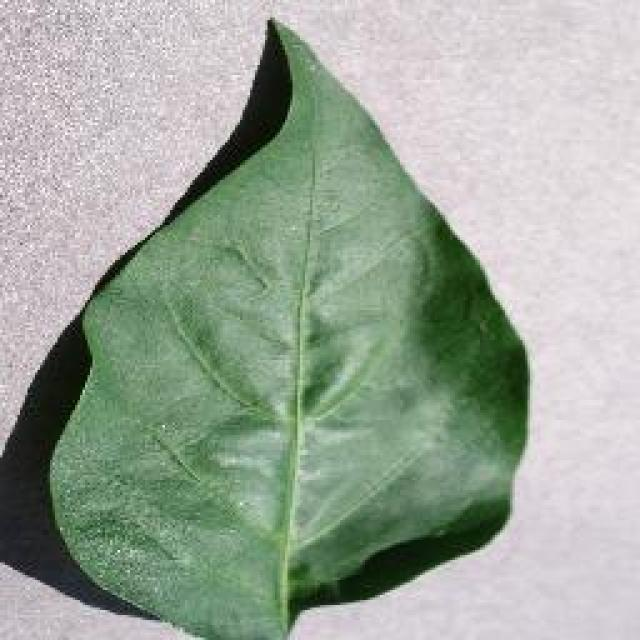Chilli_Healthy: (45, 15, 533, 637)
